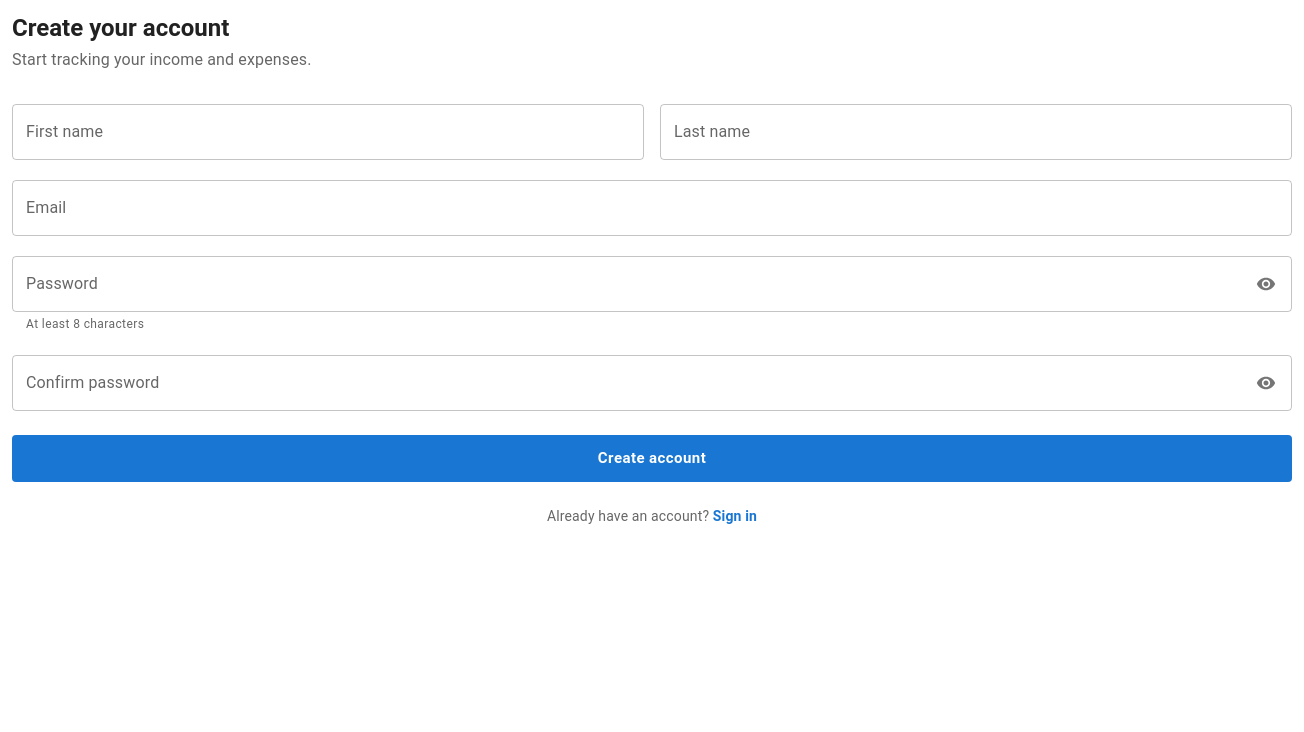
Test: Register page › shows an error alert when the email is already registered
Type "Demo" into the field labelled "First name". click: x=328, y=132
box: [12,104,644,160]
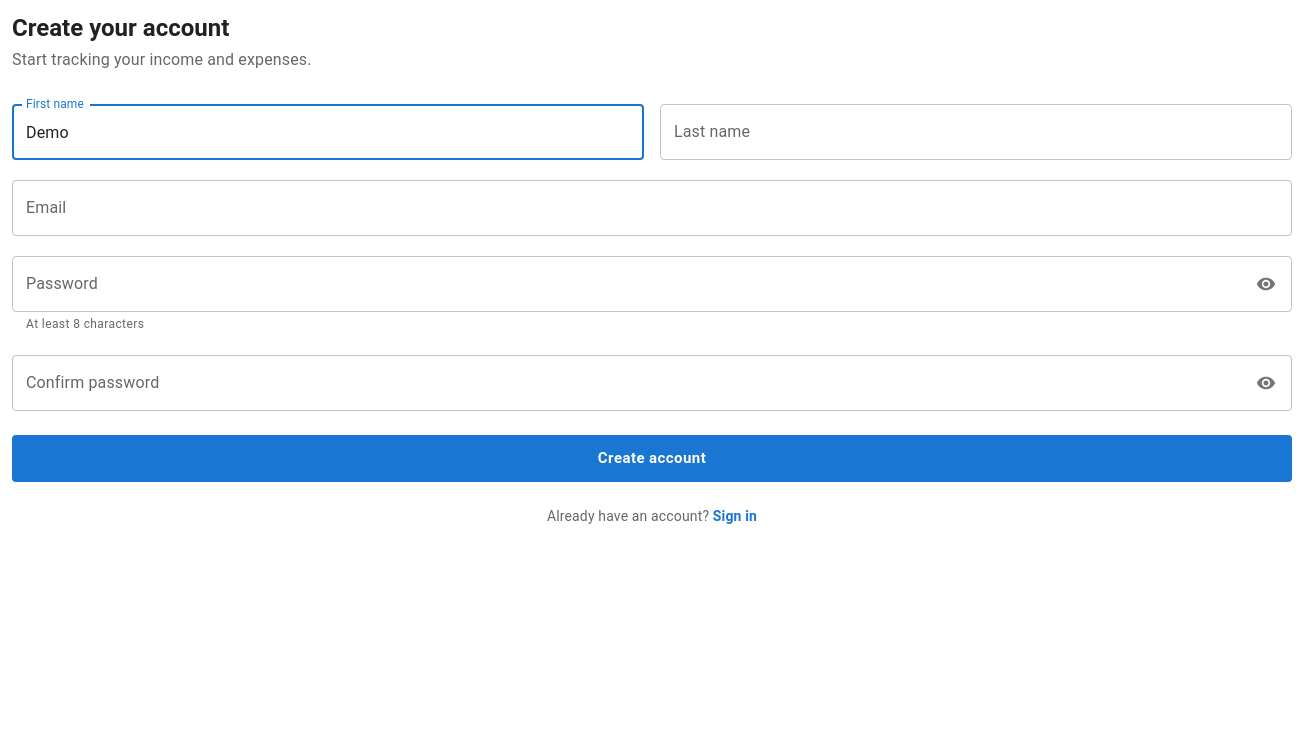
Type "User" into the field labelled "Last name". click: x=976, y=132
box: [660,104,1292,160]
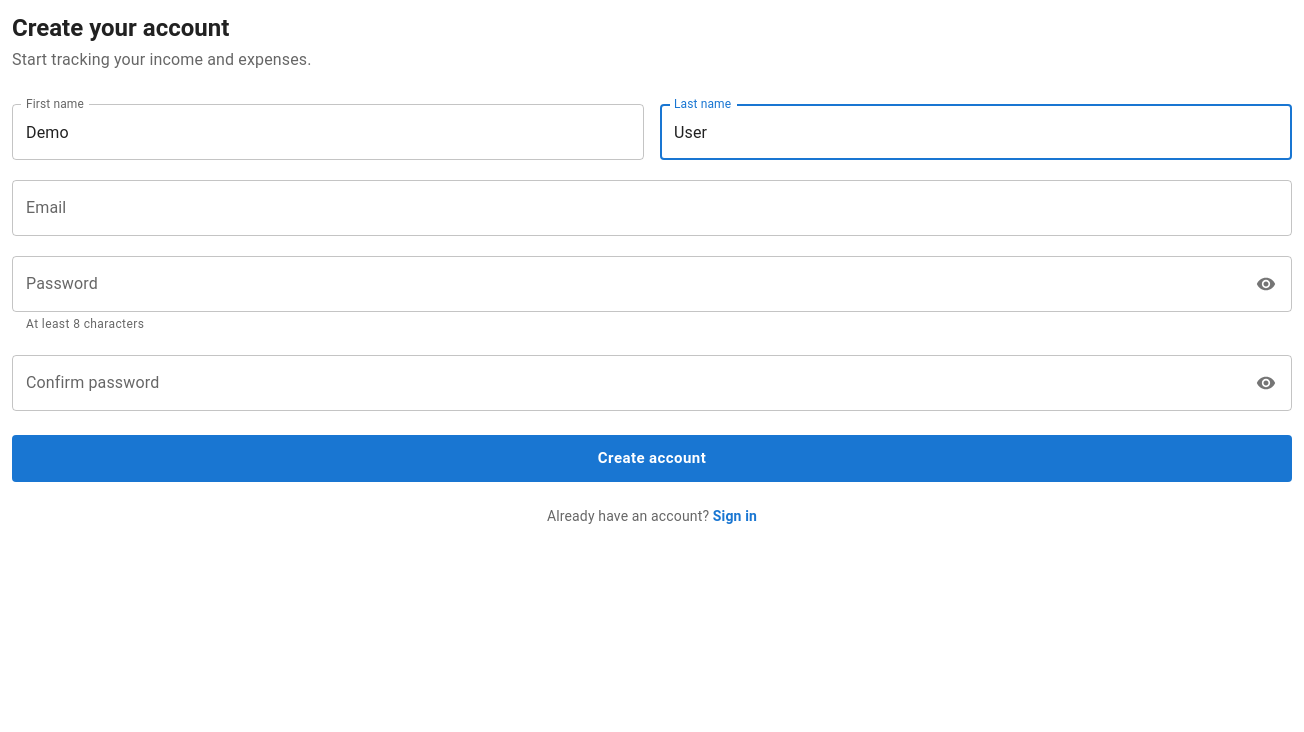
Type "demo@qashio.com" into the field labelled "Email". click: x=652, y=208
box: [12,180,1292,236]
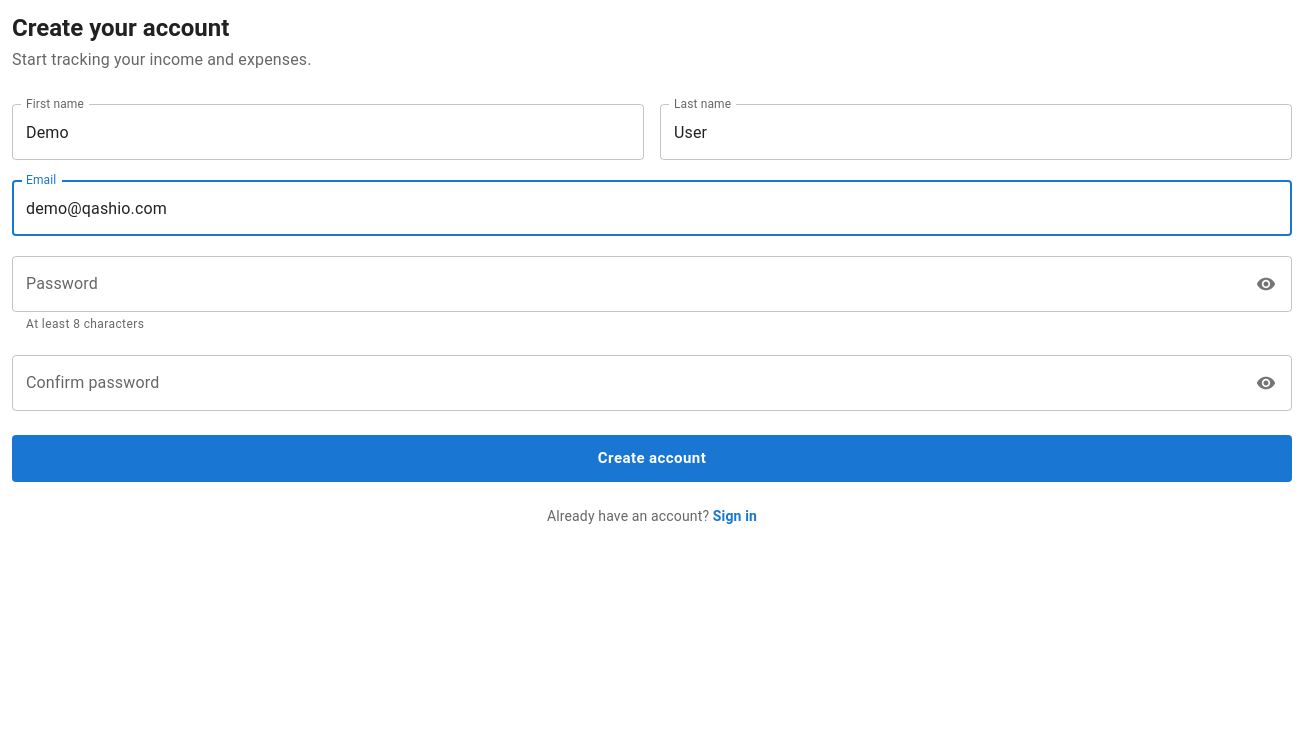
Type "Secret123" into the password field labelled "Password". click: x=628, y=284
box: [12,256,1243,312]
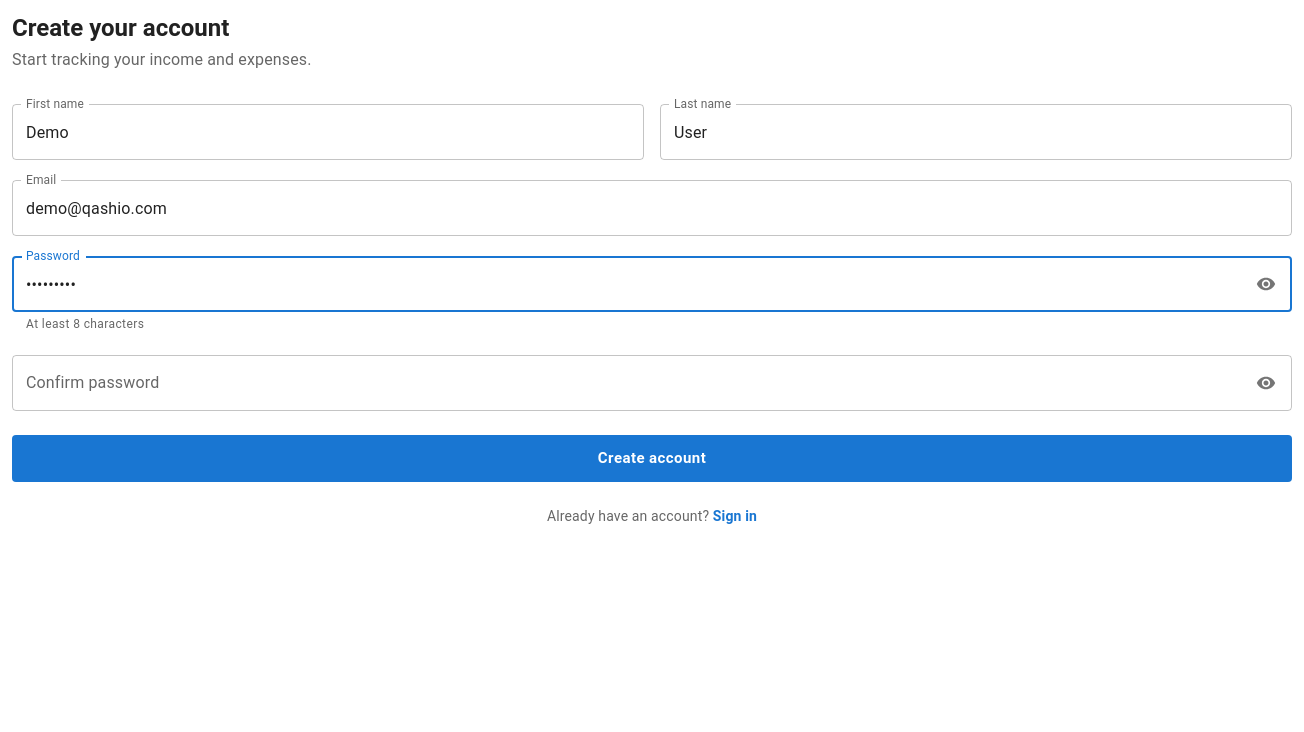
Type "Secret123" into the password field labelled "Confirm password". click: x=628, y=383
box: [12,355,1243,411]
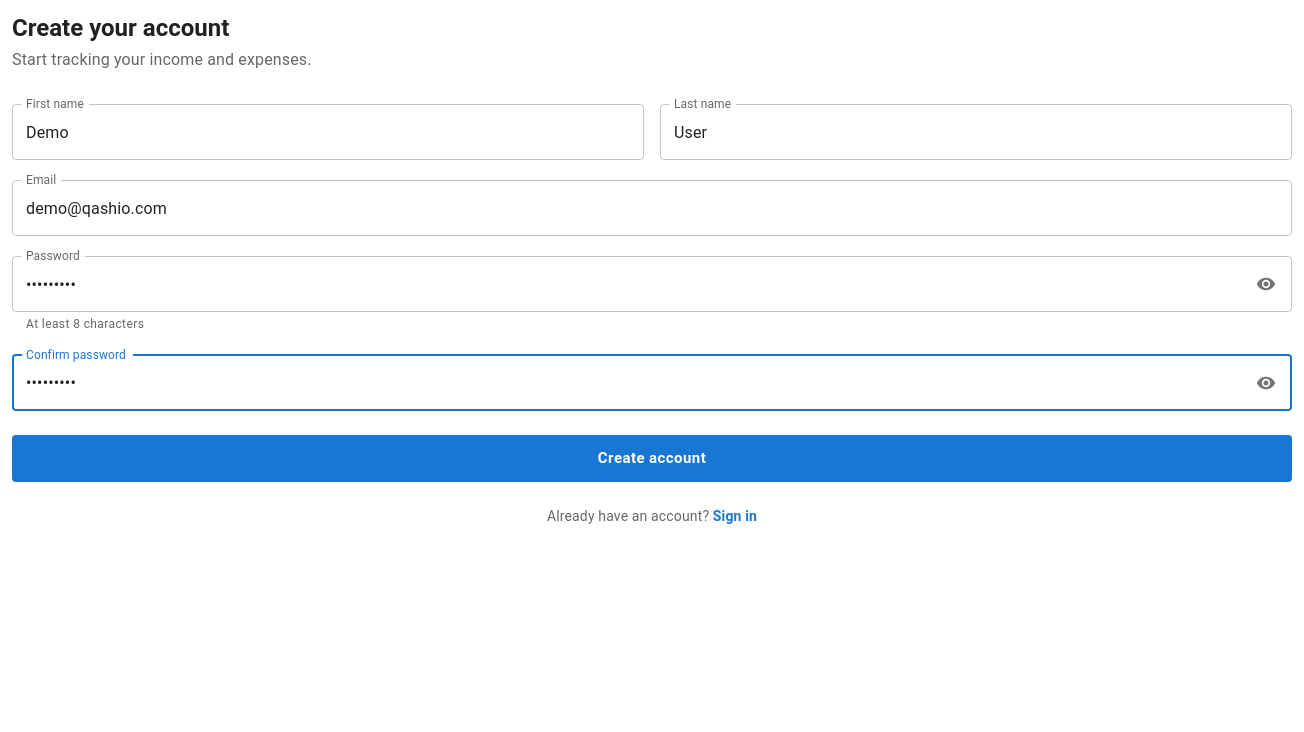
Click the button "Create account". click: x=652, y=458
box: [12,435,1292,482]
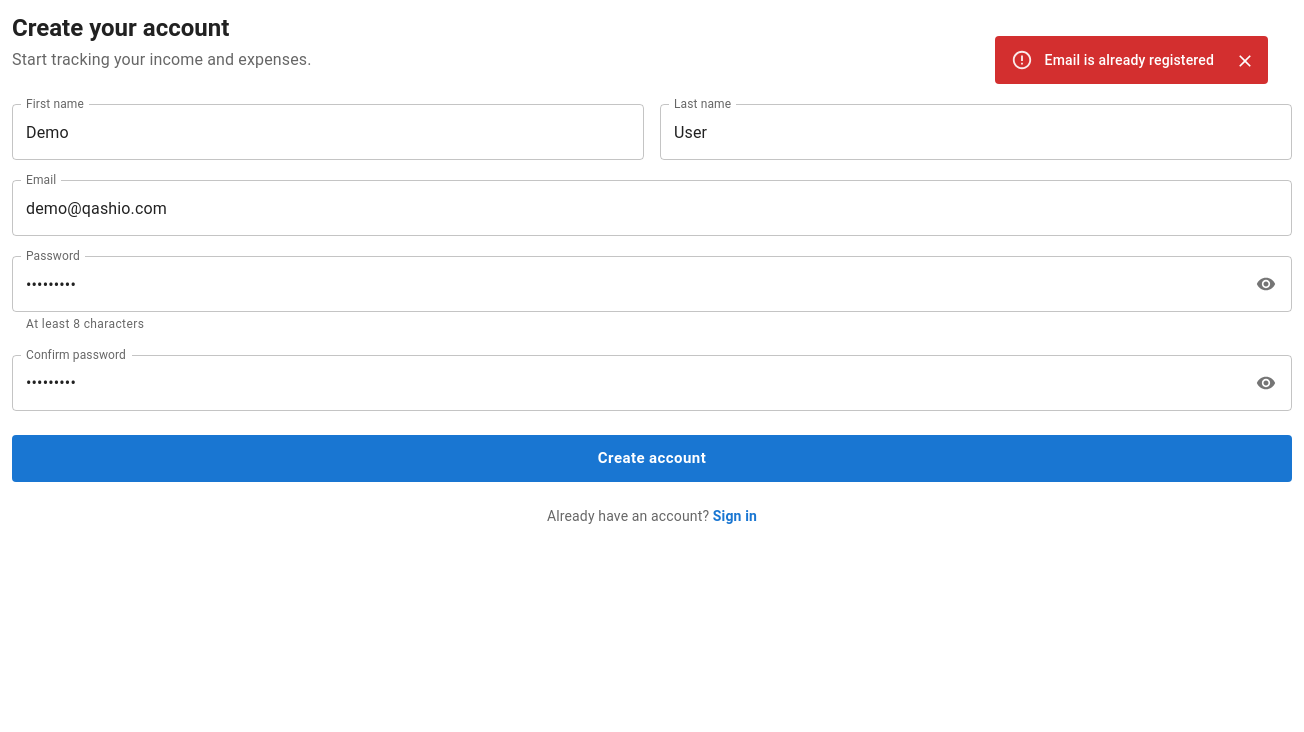
expect the message reads "Email is already registered": met, box [1045,52,1214,68]
